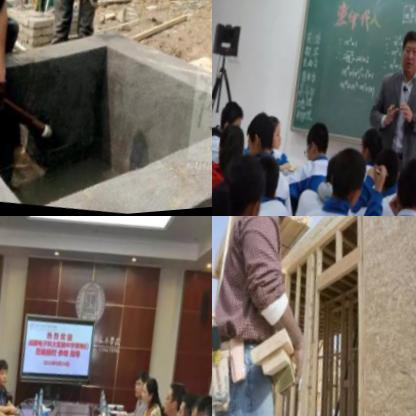head: (212, 154, 270, 216), (318, 144, 368, 215), (242, 148, 281, 209), (236, 109, 274, 166), (295, 118, 334, 168), (364, 150, 399, 198), (386, 160, 416, 216), (212, 125, 246, 172), (351, 129, 383, 174), (212, 95, 243, 140), (255, 113, 283, 161), (392, 32, 416, 83), (155, 382, 185, 416), (177, 396, 212, 416), (135, 381, 157, 411), (166, 395, 197, 416), (127, 375, 147, 404), (0, 357, 8, 388)
helmet: (247, 216, 300, 235)
